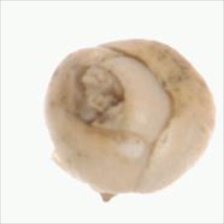L3: (72, 60, 172, 143)
L4: (44, 39, 216, 199)
